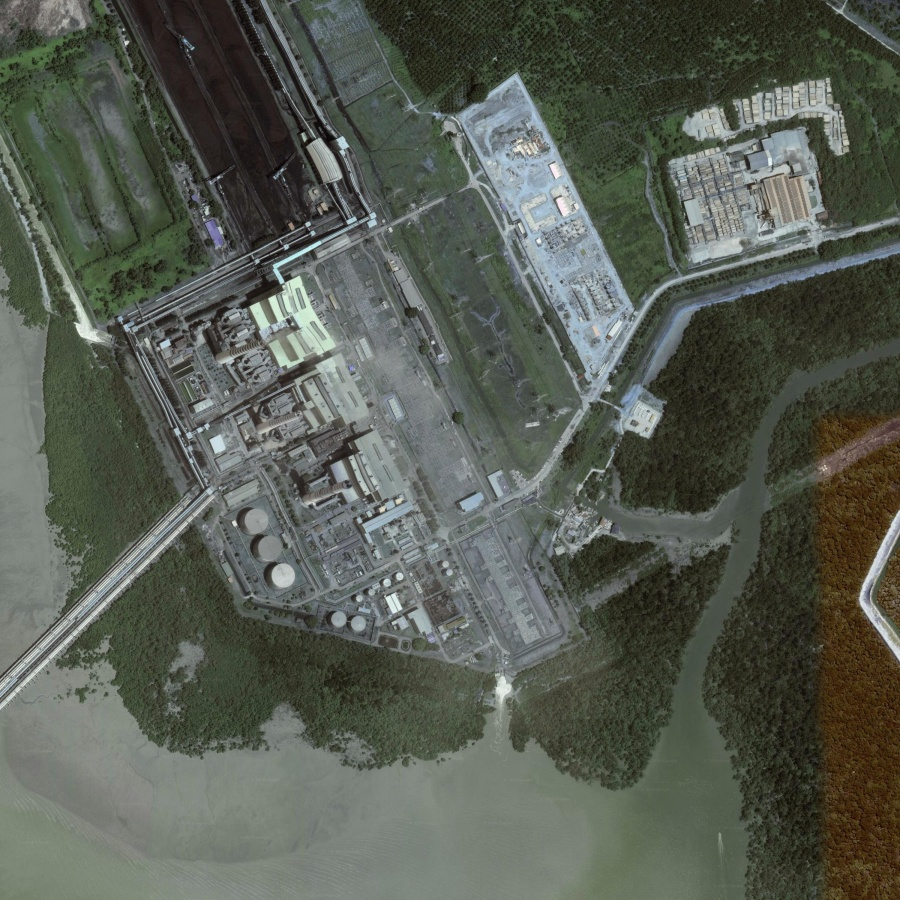PowerPlant: (140, 290, 505, 652)
